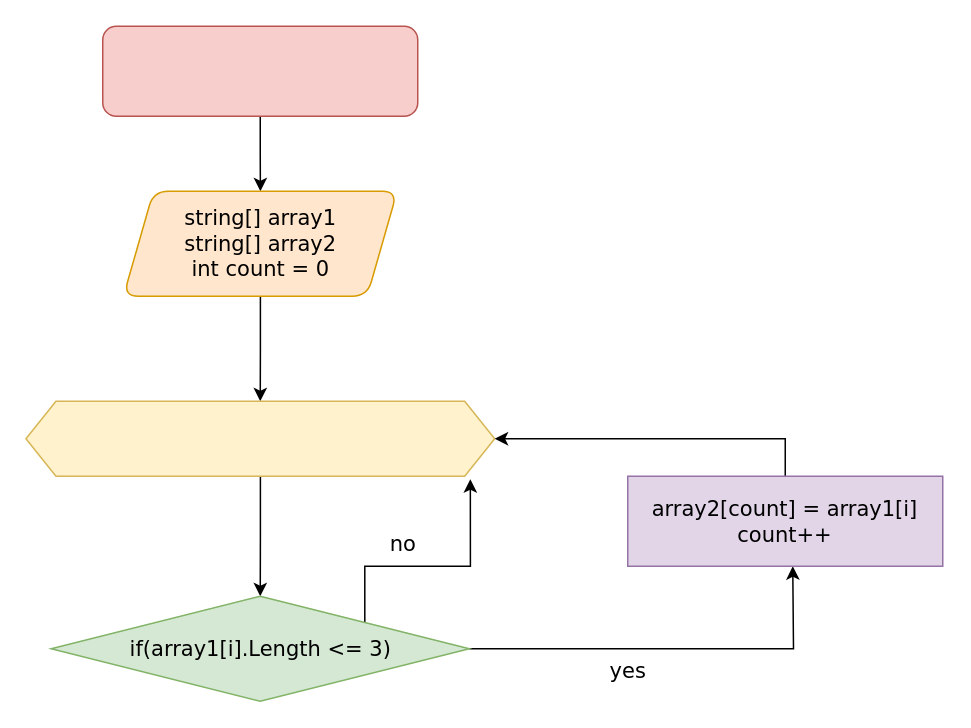
This 971x728 diagram has some shape labels left out. The shapes that lost their labels are listed below. From the top down, each one's centre as x and y in pixels, then its label:
At point 259,70: "ResizeSecondArray".
At point 259,438: "for(int i = 0; i < array1.Length; i++)".
